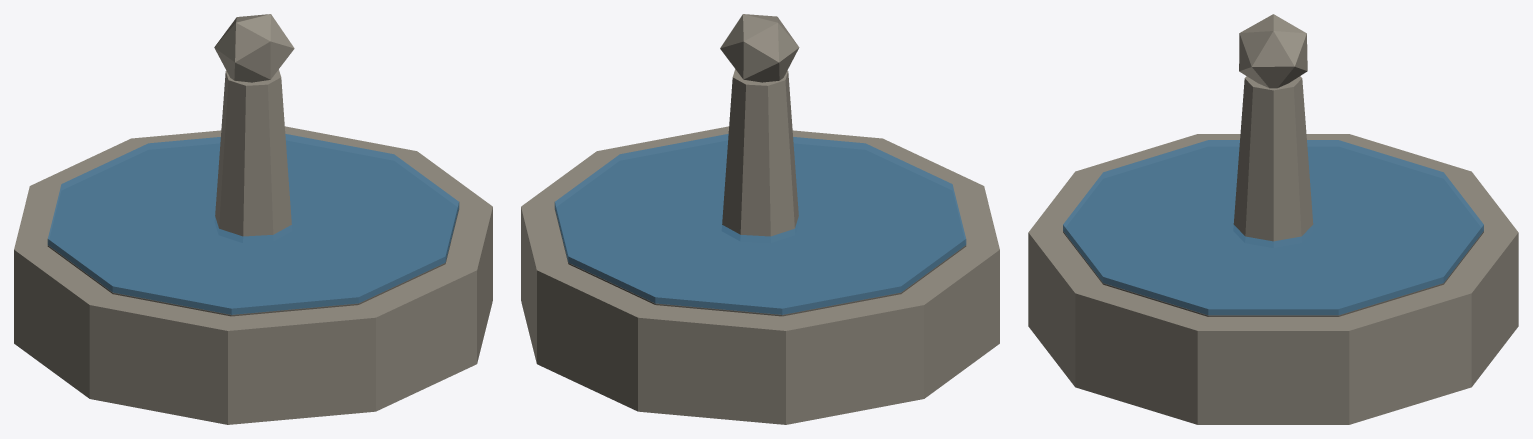
The model's file is pra-chafariz.gltf.
3 views of the same model, side by side, from view 1: azimuth 30°, elevation 25°; view 2: azimuth 150°, elevation 25°; view 3: azimuth 270°, elevation 25° (orthographic).
Visible parts, largest first — view 1: pra-chafariz; view 2: pra-chafariz; view 3: pra-chafariz.
Boxes of the visible parts, box(x1,y1,x2,y2) form: pra-chafariz: box(14, 14, 492, 424); pra-chafariz: box(521, 14, 999, 424); pra-chafariz: box(1028, 14, 1518, 424).
Bounding box in the file's own units: 1.62 × 1.16 × 1.7.
